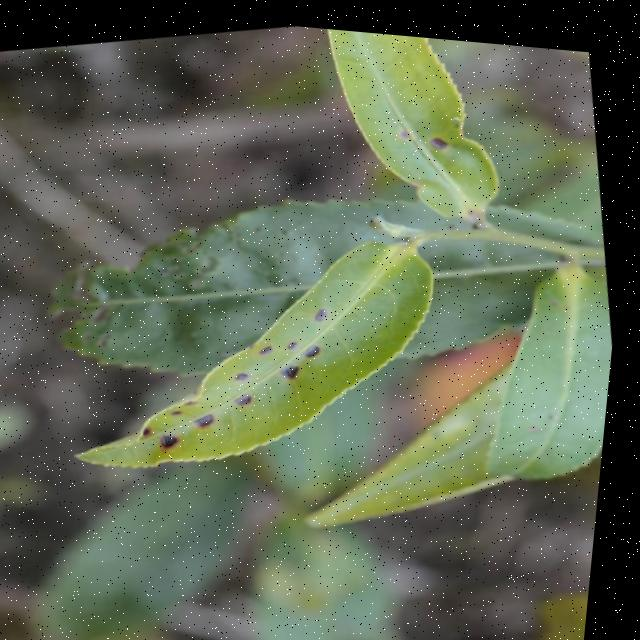Tea red scab: (252, 310, 348, 378), (397, 102, 467, 158), (227, 376, 271, 411), (300, 288, 347, 319), (230, 351, 279, 380), (163, 420, 199, 457), (203, 397, 234, 419)
